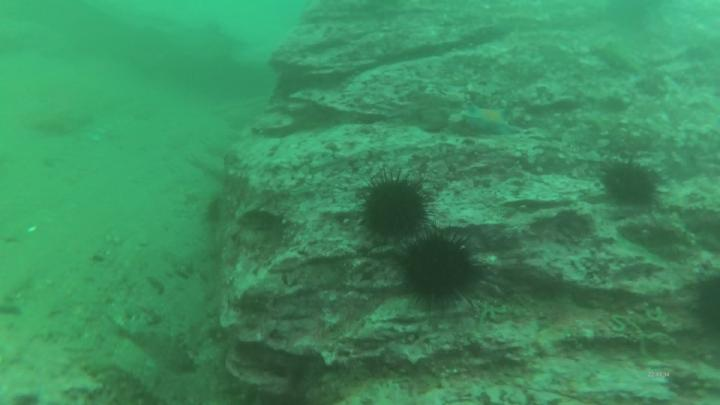echinus: (117, 315, 197, 371), (87, 360, 163, 405), (203, 197, 224, 228)
holothurian: (400, 229, 484, 313), (356, 170, 434, 248), (601, 154, 664, 213), (695, 271, 720, 334)
starfish: (454, 100, 522, 141)
